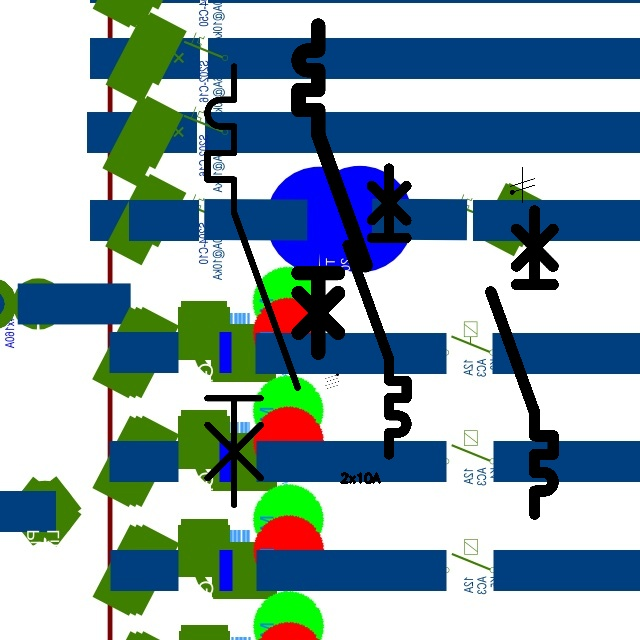interruptor_termomagnetico: (196, 55, 309, 516), (290, 17, 374, 361), (483, 203, 561, 522), (340, 161, 414, 462)
